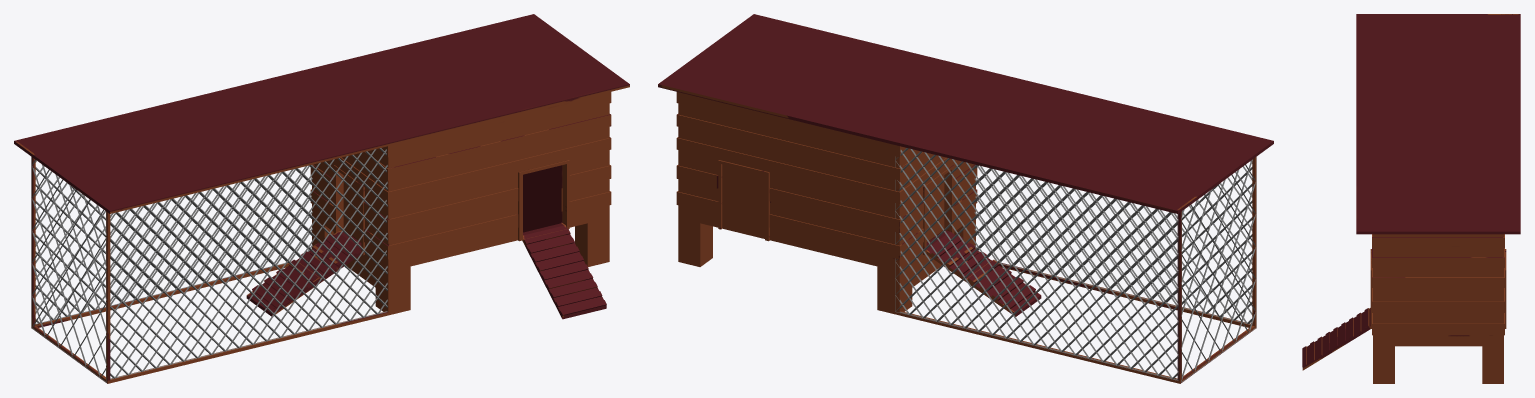
Rendered from chickenCoop.fbx.
3 renders of one model, left to right at view 1: azimuth 30°, elevation 25°; view 2: azimuth 150°, elevation 25°; view 3: azimuth 270°, elevation 25°, orthographic. The views are drawn at different scales.
Visible parts, largest first — view 1: Cube, Grid, Grid.001, Grid.002; view 2: Cube, Grid.001, Grid, Grid.002; view 3: Cube.
Boxes of the visible parts, x1,y1,x2,y2 form: Cube: (14, 14, 629, 383); Grid: (110, 148, 387, 379); Grid.001: (35, 160, 312, 324); Grid.002: (31, 157, 106, 382); Cube: (658, 14, 1273, 383); Grid.001: (895, 148, 1178, 380); Grid: (974, 161, 1252, 324); Grid.002: (1181, 157, 1256, 382); Cube: (1302, 14, 1520, 383).
Bounding box in the file's own units: 1129 × 391 × 479.
Materials: 2 (1 with a texture image).
